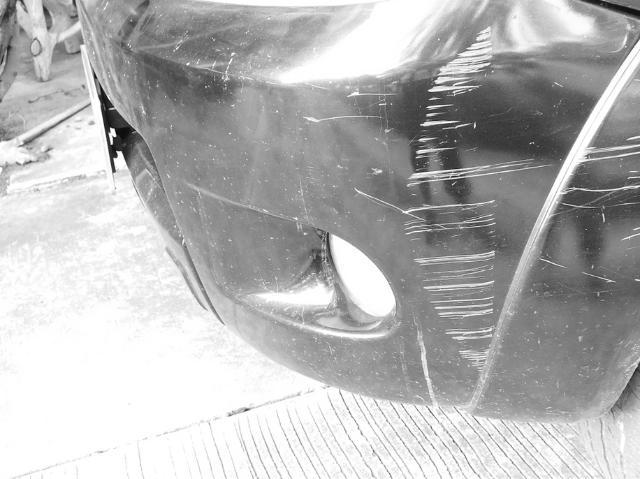Bumper: (222, 39, 542, 402)
